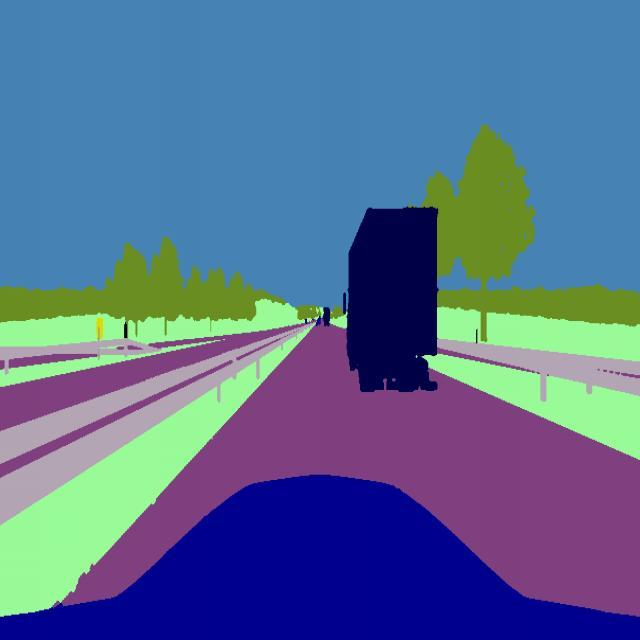safe: (344, 200, 444, 396)
